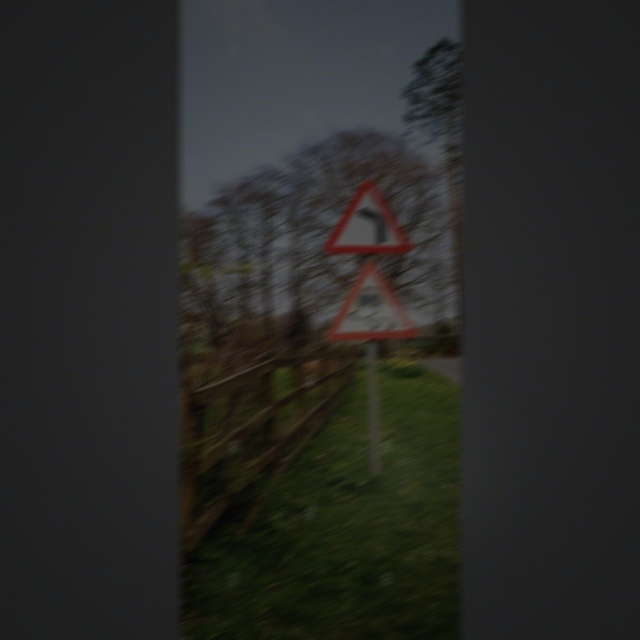Slippery_Road: (329, 260, 415, 344)
